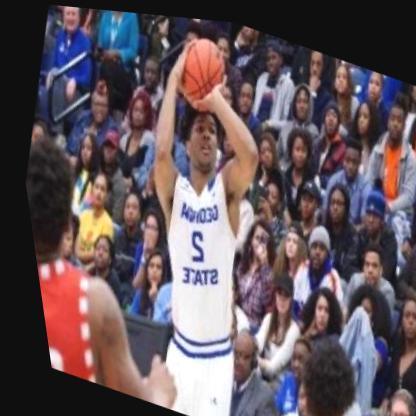basketball: (163, 23, 235, 109)
